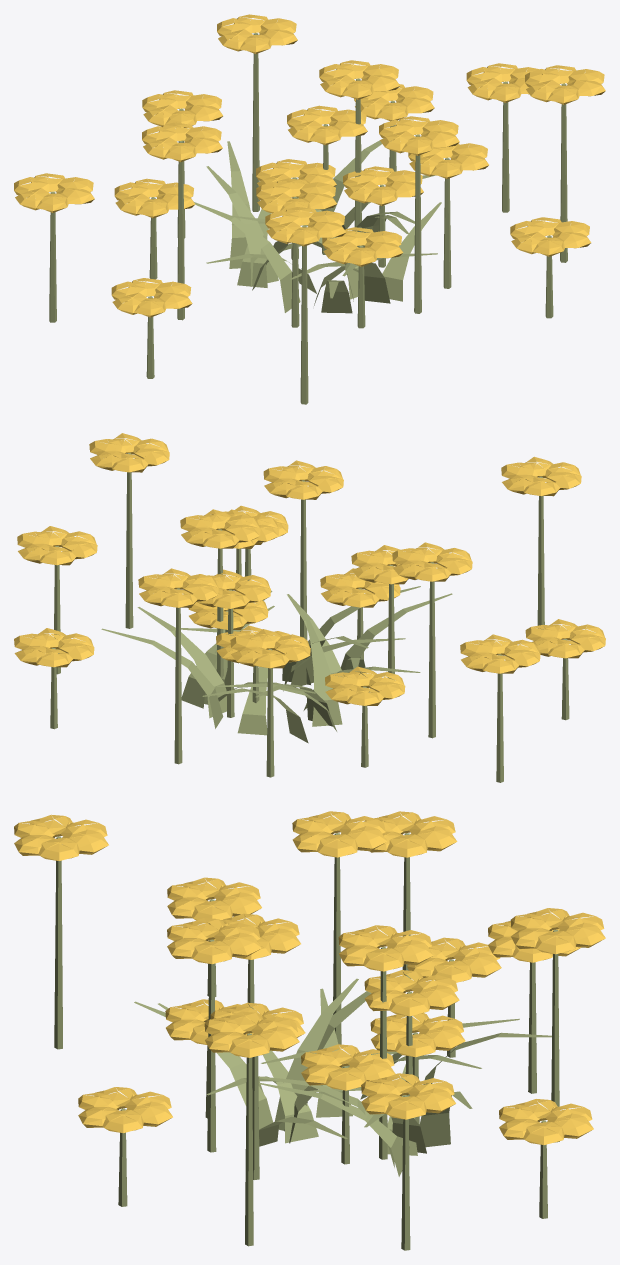
The model's file is desert-canyons-and-oases-ephemeral-bloom-e41e9191__21015.glb.
3 views of the same model, one above another, from view 1: azimuth 30°, elevation 25°; view 2: azimuth 150°, elevation 25°; view 3: azimuth 270°, elevation 25° (orthographic). The views are drawn at different scales.
Parts seen in each view (by area): view 1: ephemeral-bloom; view 2: ephemeral-bloom; view 3: ephemeral-bloom.
Boxes of the visible parts, x1,y1,x2,y2 form: ephemeral-bloom: (14,14,605,404); ephemeral-bloom: (14,433,605,782); ephemeral-bloom: (14,811,605,1250).
Size of the model in its own units: 1.03 by 0.3419 by 0.8434.
